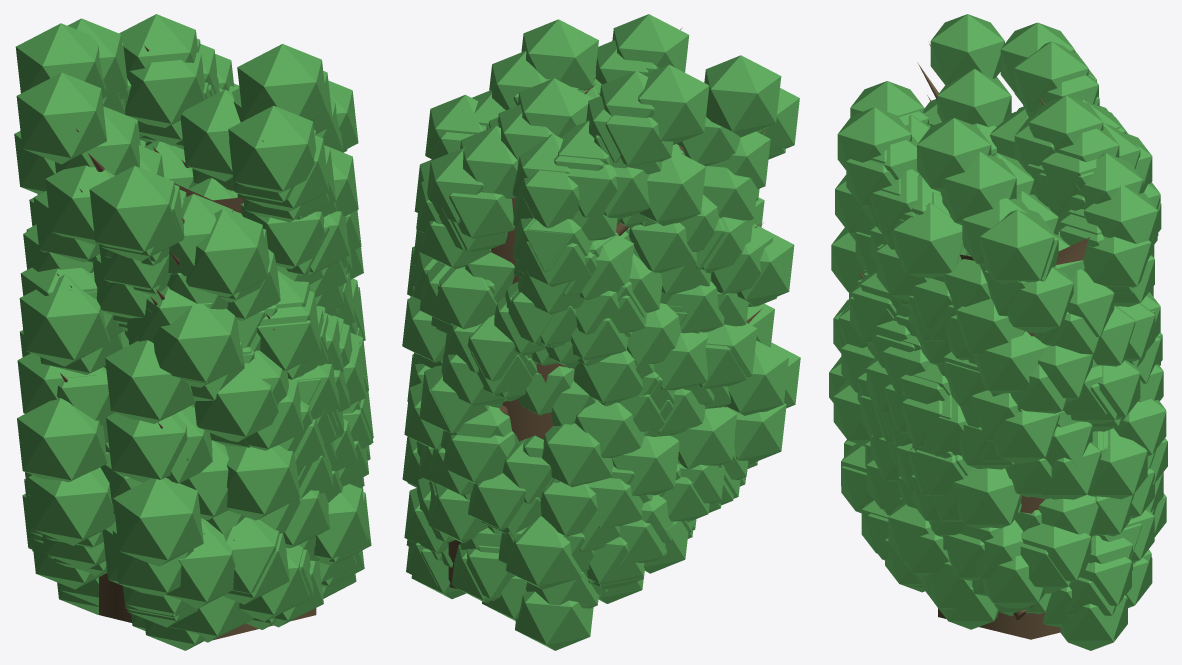
The model's file is tree_var_7891.glb.
The picture shows the model from 3 angles, left to right: view 1: azimuth 30°, elevation 25°; view 2: azimuth 150°, elevation 25°; view 3: azimuth 270°, elevation 25°; orthographic projection. The views are drawn at different scales.
Visible parts, largest first — view 1: tree_var_7891; view 2: tree_var_7891; view 3: tree_var_7891.
Part boxes in pixels (<box>): tree_var_7891: <box>14,14,373,650</box>; tree_var_7891: <box>402,14,800,650</box>; tree_var_7891: <box>829,14,1167,650</box>.
Size of the model in its own units: 3.46 by 5.68 by 3.15.
